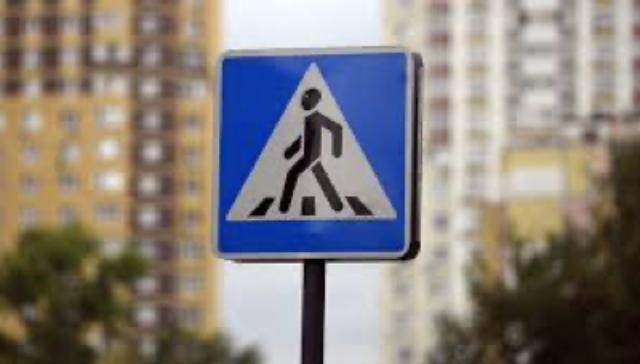crosswalk-sign: (213, 47, 422, 264)
